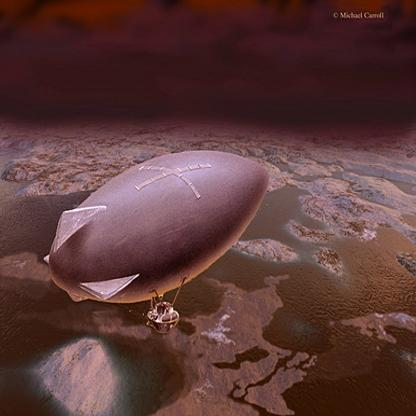Airship: (41, 149, 270, 316)
